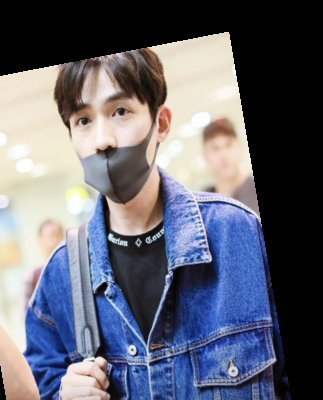mask_weared_incorrect: (44, 55, 185, 214)
